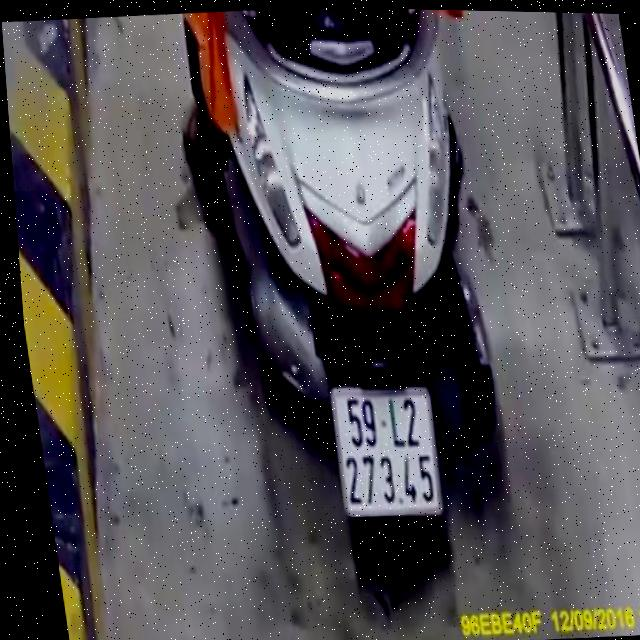motorcycle: (178, 4, 541, 557)
plate: (320, 376, 450, 524)
